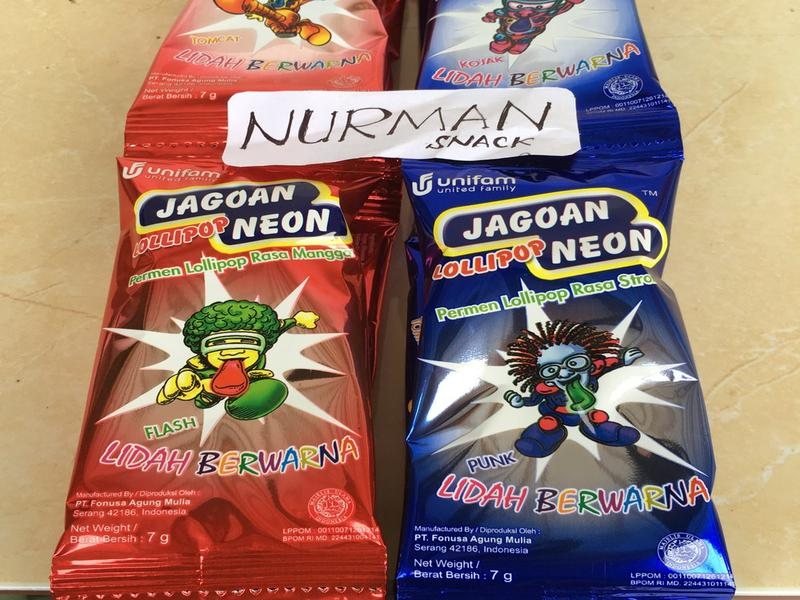jagoan_neon: (54, 144, 401, 598), (402, 142, 736, 596), (123, 1, 403, 146), (416, 1, 684, 145)
